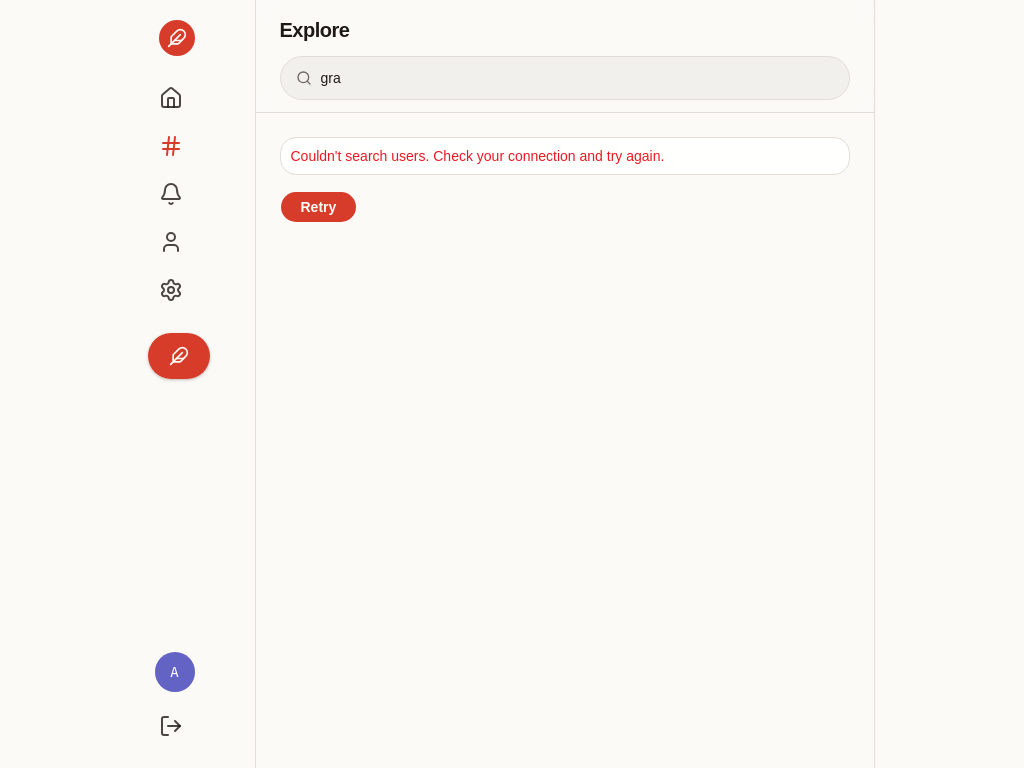
Test: Explore › shows an error with Retry when the search fails, and recovers
The image size is (1024, 768).
Expected: the text "Couldn't search users. Check your connection and try again." is shown, [290,148,664,164]
Click the button "Retry". click: click(318, 207)
box: [280,191,357,223]
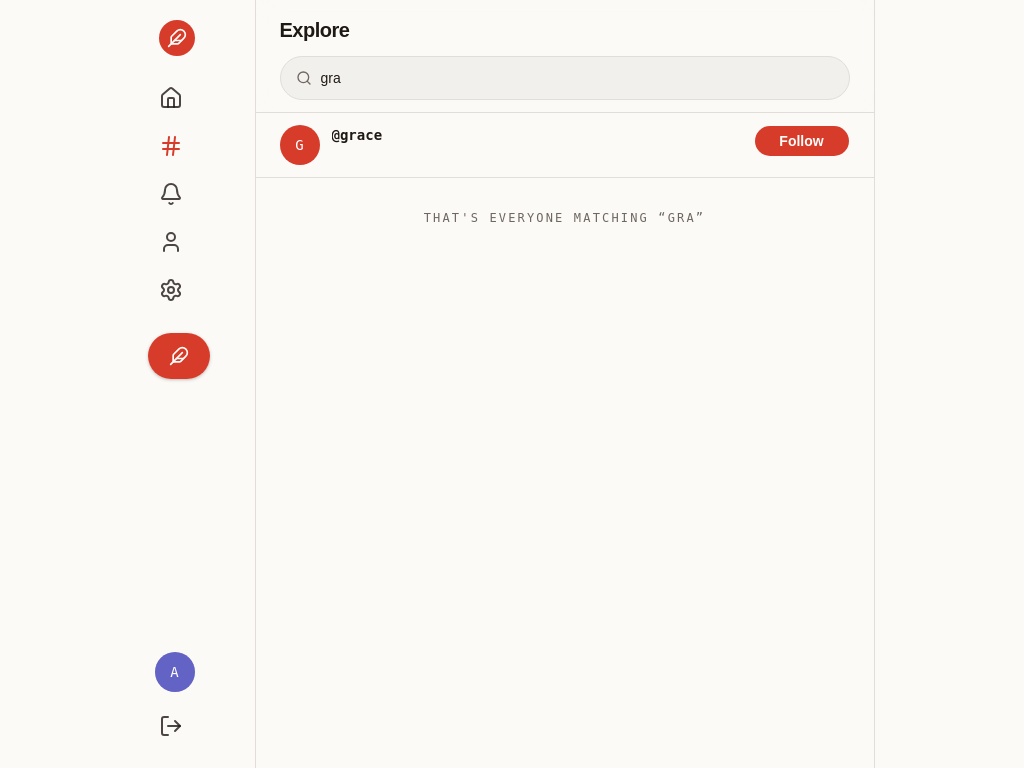
Now the link "@grace" is shown, box [332,127,382,143]
Now the text "Couldn't search users" is gone
